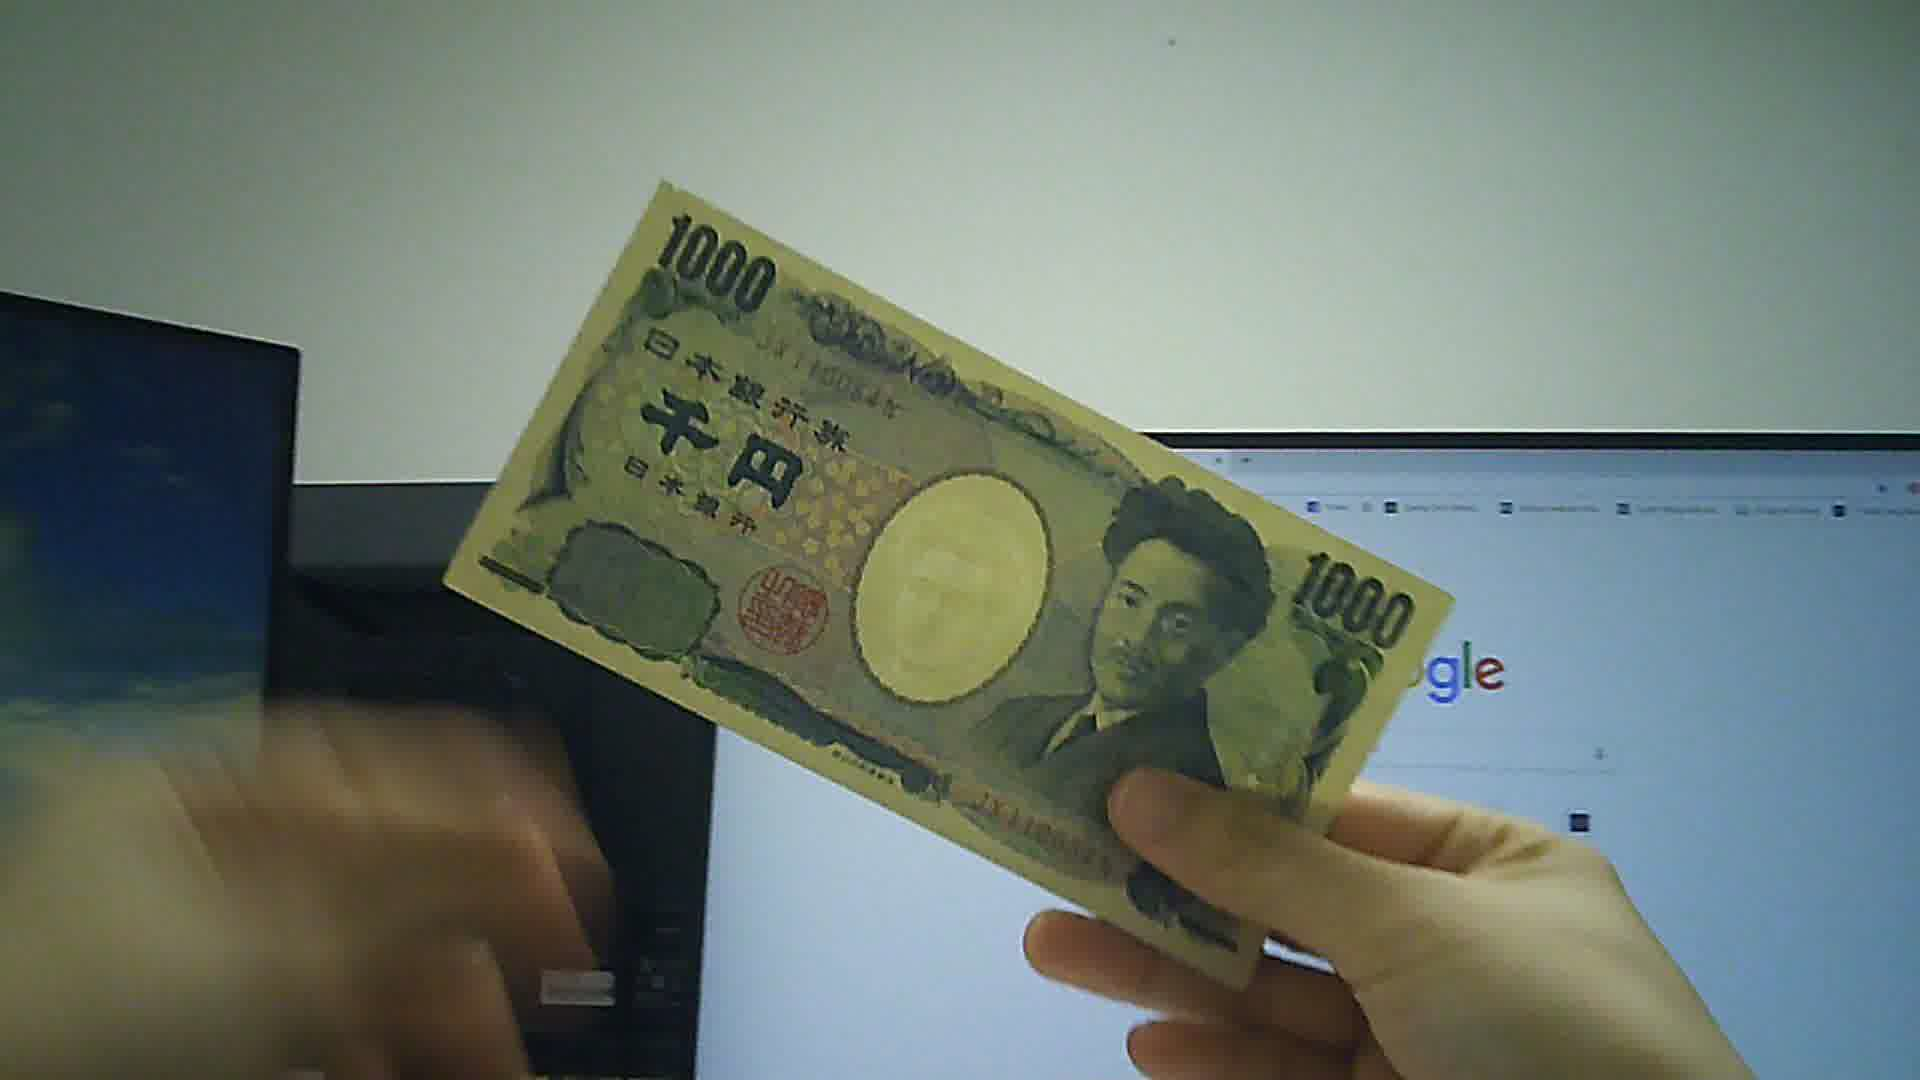1,000 Yen: (436, 165, 1447, 996)
